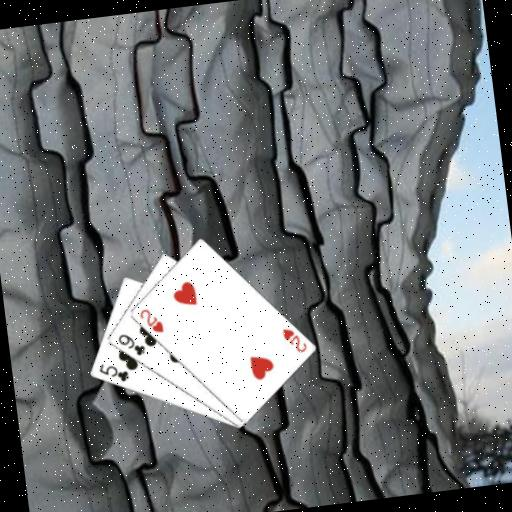2H: (136, 304, 166, 337), (279, 323, 309, 356)
5C: (95, 358, 130, 387)
9C: (115, 329, 148, 360)
